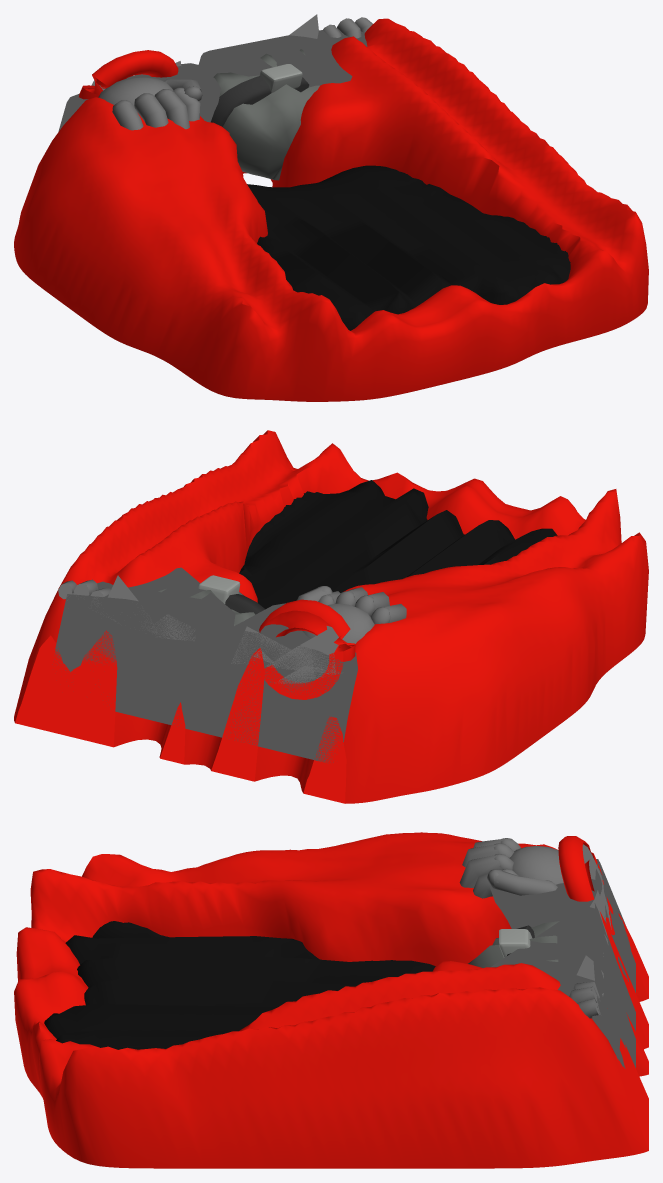
File: hooded_bottom_damaged.glb
3 views of the same model, one above another, from view 1: azimuth 30°, elevation 25°; view 2: azimuth 150°, elevation 25°; view 3: azimuth 270°, elevation 25° (orthographic). The views are drawn at different scales.
Visible parts, largest first — view 1: hooded_bottom_damaged; view 2: hooded_bottom_damaged; view 3: hooded_bottom_damaged.
Boxes of the visible parts, x1=… form: hooded_bottom_damaged: x1=14, y1=14, x2=648, y2=401; hooded_bottom_damaged: x1=14, y1=430, x2=648, y2=803; hooded_bottom_damaged: x1=14, y1=832, x2=648, y2=1168.
Bounding box in the file's own units: 23 × 7.81 × 26.37.
